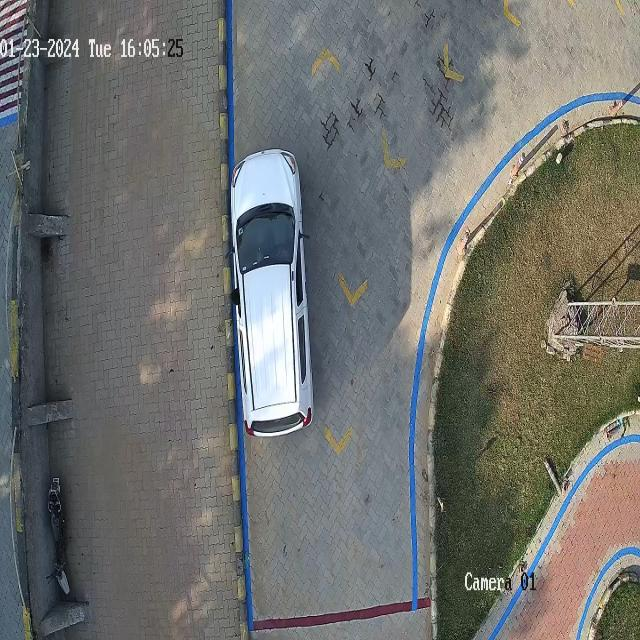car: (230, 149, 314, 439)
